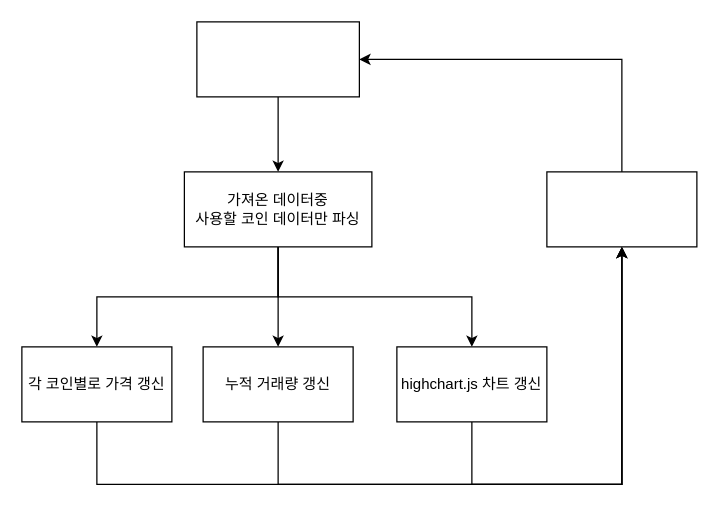
Some shapes in this 719 by 516 pixel diagram are drawn without their labels. Each missing label, with the centre of its shape:
"Coinone REST API Poloniex REST API 전체 코인 정보 받아옴" belongs at point (277, 59).
"setInterval()" belongs at point (621, 209).
